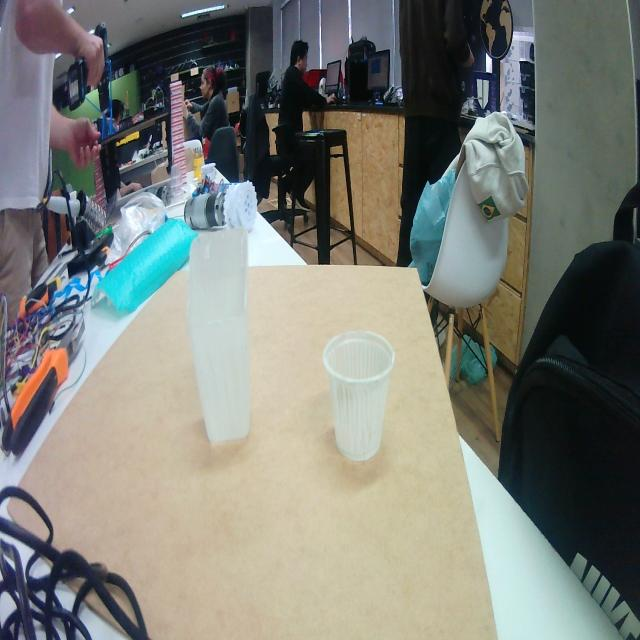erva_daninha: (186, 226, 250, 444)
planta: (322, 329, 396, 463)
